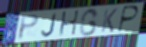G: (78, 8, 100, 38)
H: (57, 9, 80, 39)
J: (41, 12, 58, 38)
K: (100, 7, 119, 33)
P: (117, 4, 140, 34), (17, 13, 40, 42)
